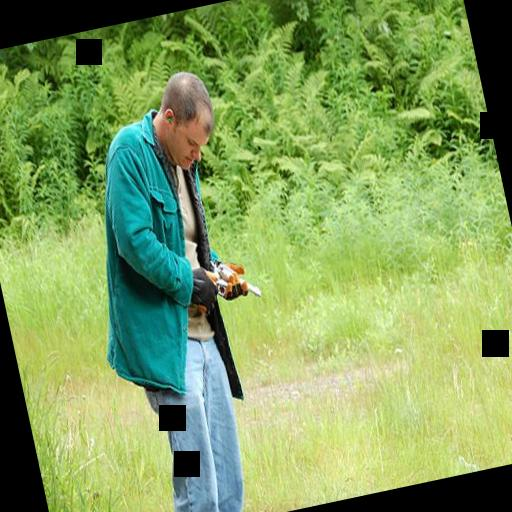Handgun: (187, 247, 261, 317)
